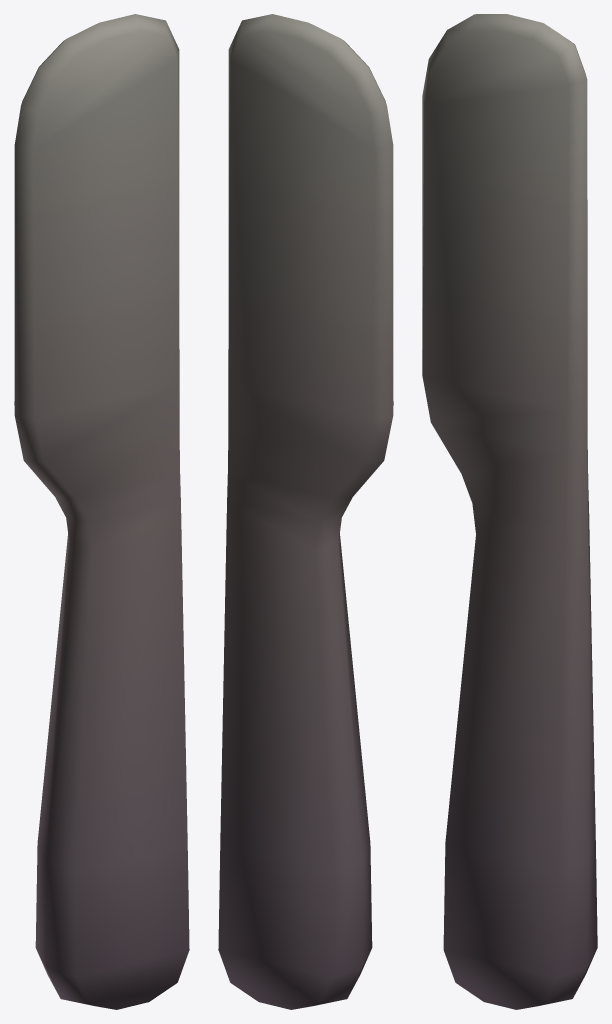
File: Knife_01.glb
3 renders of one model, left to right at view 1: azimuth 30°, elevation 25°; view 2: azimuth 150°, elevation 25°; view 3: azimuth 330°, elevation 25°, orthographic.
Parts seen in each view (by area): view 1: Knife_01; view 2: Knife_01; view 3: Knife_01.
Part boxes in pixels (box(x1,y1,x2,y2)): Knife_01: box(14, 14, 189, 1009); Knife_01: box(218, 14, 393, 1009); Knife_01: box(422, 14, 597, 1009).
Size of the model in its own units: 0.0857 by 0.4879 by 0.0367.
Materials: 1 (1 with a texture image).
